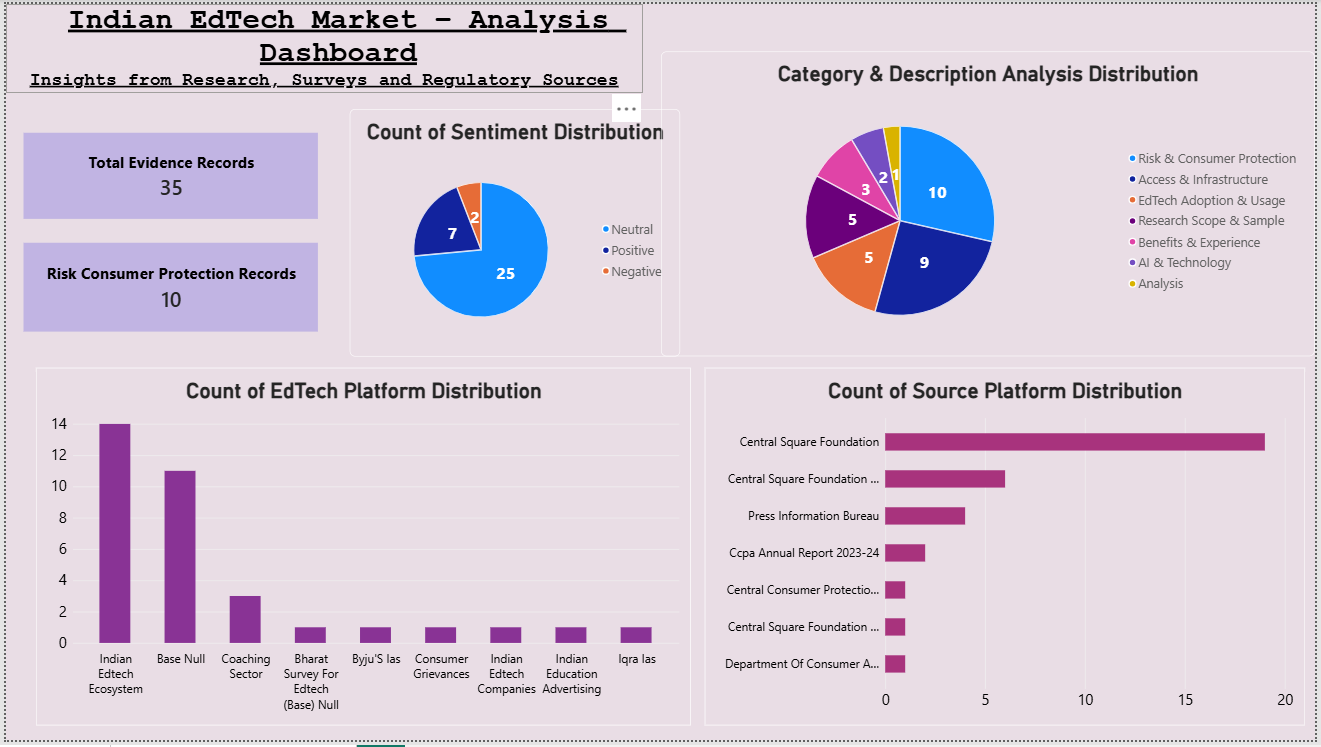

This screenshot's page, from the dashboard's own definition file:
{"tool":"powerbi","page":{"name":"Analysis Dashboard","canvas":[1920,1080],"ordinal":0},"visuals":[{"type":"pieChart","title":"Count of Sentiment Distribution","fields":{"Category":["Clean_Dataset.Sentiment"],"Y":["CountNonNull(Clean_Dataset.Sentiment)"]},"box":[504.4,154.1,484.8,363.6],"z":0},{"type":"clusteredColumnChart","title":"Count of EdTech Platform Distribution","fields":{"Category":["Clean_Dataset.EdTech_Platform"],"Y":["CountNonNull(Clean_Dataset.Record_ID)"]},"box":[44,533.8,961.1,524.6],"z":1000},{"type":"barChart","title":"Count of Source Platform Distribution","fields":{"Category":["Clean_Dataset.Source_Platform"],"Y":["CountNonNull(Clean_Dataset.Record_ID)"]},"box":[1025.3,533.8,880.4,524.6],"z":2000},{"type":"pieChart","title":"Category & Description Analysis Distribution","fields":{"Y":["CountNonNull(Analysis_sheet.Column1)"],"Category":["Analysis_sheet.Column3"]},"box":[960.9,69.3,959.1,447],"z":3000},{"type":"cardVisual","fields":{"Data":["Analysis_sheet.Total Evidence Records"]},"box":[25.7,188.9,432.9,126.6],"z":4000},{"type":"cardVisual","fields":{"Data":["Analysis_sheet.Risk Consumer Protection Records"]},"box":[25.7,350.3,432.9,130.2],"z":5000},{"type":"textbox","box":[0,0,933.6,130.2],"z":6000}]}

Visuals, with their boxes in screenshot pixels (x1, y1, x2, y2), scaled from the page's 1920x1080 canvas onto the 1321x747 screenshot:
"Count of Sentiment Distribution" pieChart: bbox(347, 107, 681, 358)
"Count of EdTech Platform Distribution" clusteredColumnChart: bbox(30, 369, 692, 732)
"Count of Source Platform Distribution" barChart: bbox(705, 369, 1311, 732)
"Category & Description Analysis Distribution" pieChart: bbox(661, 48, 1320, 357)
cardVisual - Analysis_sheet.Total Evidence Records: bbox(18, 131, 316, 218)
cardVisual - Analysis_sheet.Risk Consumer Protection Records: bbox(18, 242, 316, 332)
textbox: bbox(0, 0, 642, 90)
